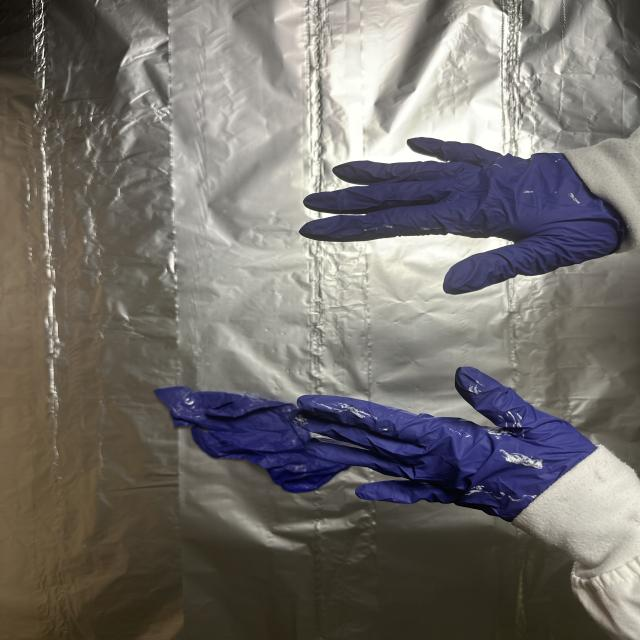gloves_contaminated: (300, 138, 626, 294), (292, 366, 596, 522)
